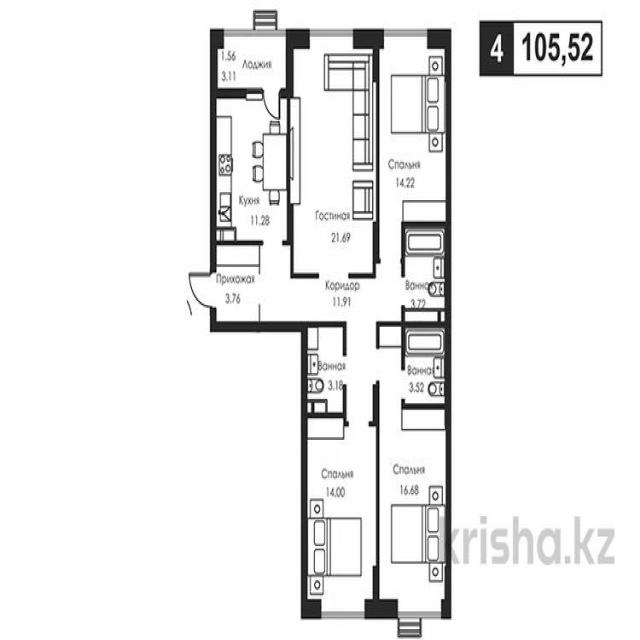balcony: (212, 34, 288, 94)
bathroom: (397, 231, 448, 318), (401, 329, 450, 419), (305, 326, 346, 424)
hallway: (265, 280, 397, 318), (212, 247, 262, 321)
kitchen: (214, 101, 290, 238)
living_room: (292, 39, 375, 277), (304, 427, 378, 618), (378, 38, 452, 222), (382, 420, 446, 609)
